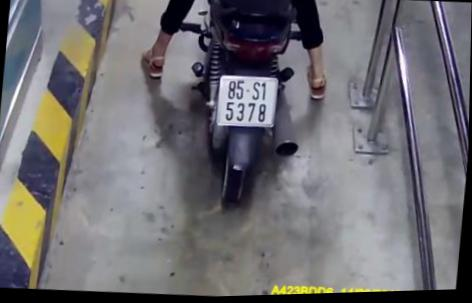LP: (217, 74, 280, 130)
